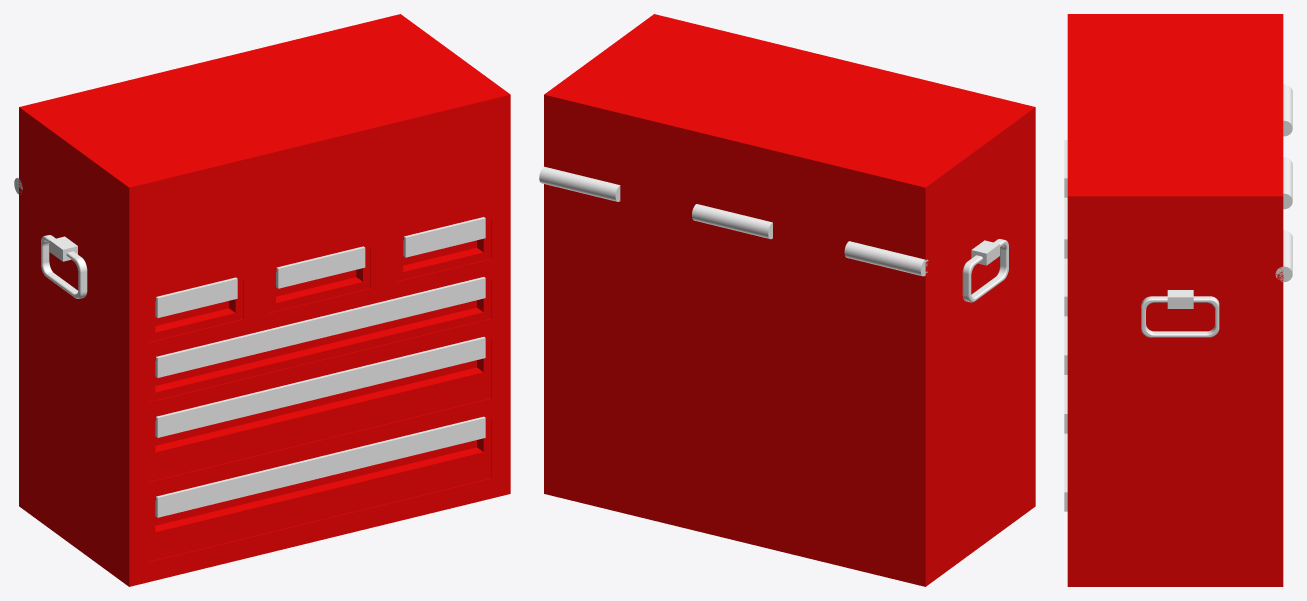
Rendered from tbassynew.glb.
The picture shows the model from 3 angles, left to right: view 1: azimuth 30°, elevation 25°; view 2: azimuth 150°, elevation 25°; view 3: azimuth 270°, elevation 25°; orthographic projection. The views are drawn at different scales.
Visible parts, largest first — view 1: Sketchfab_model_0, Sketchfab_model_28, Sketchfab_model_14, 2NDDRAWER_5_16, Body52_3_5, Body67_13_17, Body70_14_31, Body65_11_6, Body66_12_13, Body61_8_8, Body48_1_2, Body51_2_3 (+4 smaller); view 2: Sketchfab_model_0, Sketchfab_model_28, Body99_26_27, Body97_24_25, Body98_25_26, Body82_19_33; view 3: Sketchfab_model_0, Sketchfab_model_28, Body85_21_22, Body97_24_25, Body86_22_23, Body98_25_26, Body99_26_27, Body70_14_31.
Part boxes in pixels (x1=…): Sketchfab_model_0: x1=19, y1=174, x2=510, y2=586; Sketchfab_model_28: x1=19, y1=14, x2=510, y2=267; Sketchfab_model_14: x1=148, y1=419, x2=491, y2=561; 2NDDRAWER_5_16: x1=148, y1=339, x2=491, y2=481; Body52_3_5: x1=148, y1=279, x2=491, y2=401; Body67_13_17: x1=155, y1=337, x2=485, y2=437; Body70_14_31: x1=155, y1=416, x2=485, y2=517; Body65_11_6: x1=155, y1=277, x2=485, y2=377; Body66_12_13: x1=269, y1=248, x2=370, y2=312; Body61_8_8: x1=396, y1=219, x2=491, y2=281; Body48_1_2: x1=148, y1=280, x2=243, y2=342; Body51_2_3: x1=155, y1=277, x2=237, y2=317; Sketchfab_model_0: x1=544, y1=184, x2=1035, y2=586; Sketchfab_model_28: x1=544, y1=14, x2=1035, y2=266; Body99_26_27: x1=844, y1=241, x2=928, y2=276; Body97_24_25: x1=539, y1=166, x2=620, y2=201; Body98_25_26: x1=692, y1=204, x2=772, y2=239; Body82_19_33: x1=962, y1=239, x2=1008, y2=302; Sketchfab_model_0: x1=1067, y1=274, x2=1283, y2=586; Sketchfab_model_28: x1=1067, y1=14, x2=1283, y2=274; Body85_21_22: x1=1141, y1=296, x2=1219, y2=337; Body97_24_25: x1=1275, y1=230, x2=1292, y2=281; Body86_22_23: x1=1167, y1=290, x2=1193, y2=308; Body98_25_26: x1=1283, y1=157, x2=1292, y2=209; Body99_26_27: x1=1283, y1=84, x2=1292, y2=136; Body70_14_31: x1=1064, y1=433, x2=1067, y2=511.
Size of the model in its own units: 0.54 by 0.5 by 0.265.
